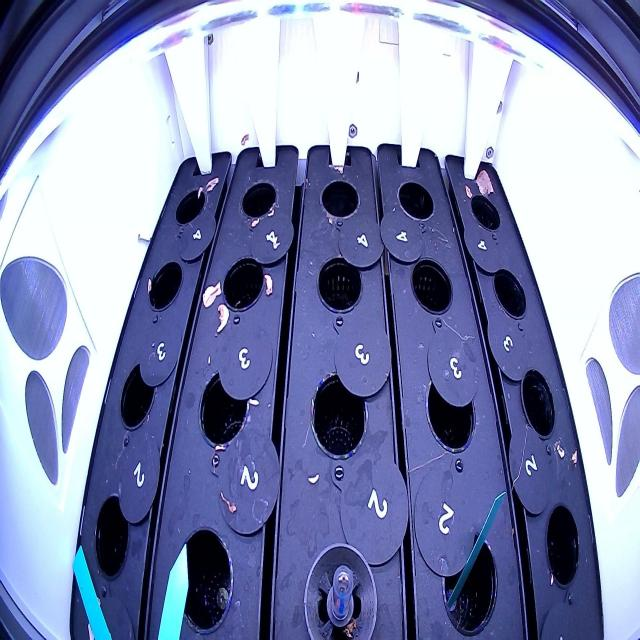empty_pod: (166, 522, 236, 638), (435, 516, 501, 639), (306, 364, 370, 471), (420, 364, 480, 459), (194, 360, 252, 454), (90, 489, 137, 588), (538, 496, 583, 596), (311, 245, 366, 321), (403, 250, 458, 323), (514, 360, 559, 448), (117, 350, 160, 439), (217, 249, 268, 314), (488, 255, 530, 329), (314, 169, 362, 232), (391, 171, 439, 231), (144, 254, 186, 318), (462, 181, 504, 241), (170, 178, 207, 234), (238, 177, 278, 225)
